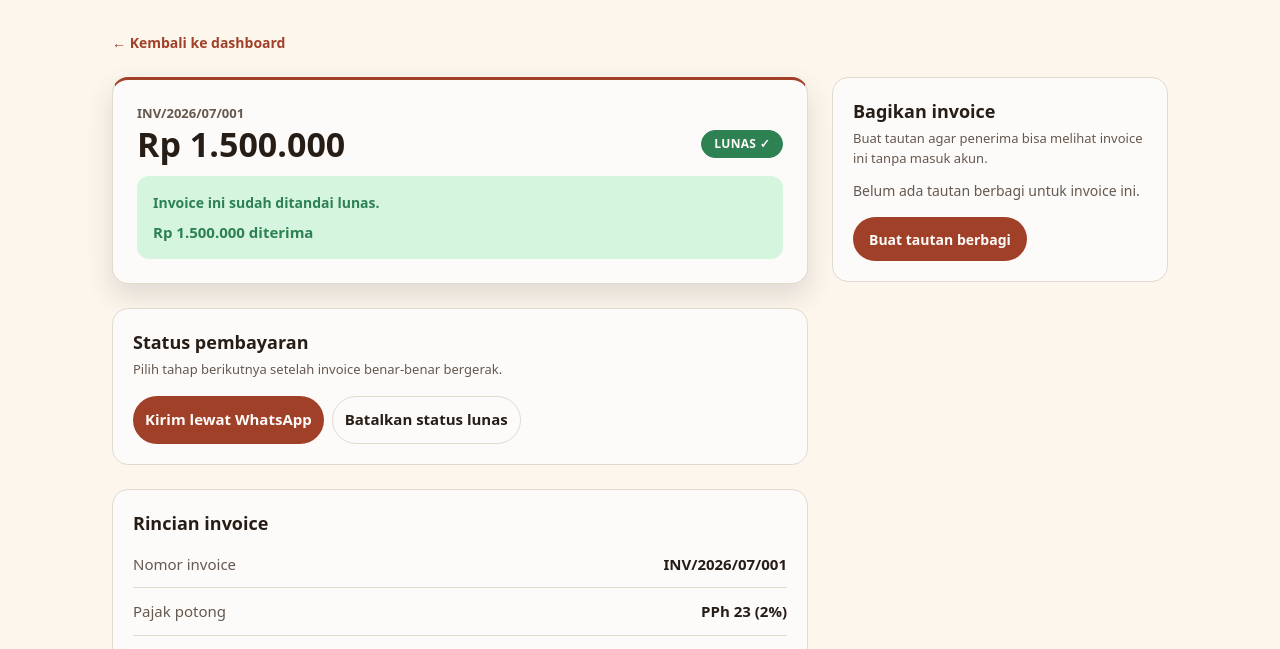
Scenario: InvoiceDetailClient › undoing a paid invoice (T-19) sends the PAID→SENT transition and shows the SENT actions afterward
The image size is (1280, 649).
What coordinates should you click on to do the following:
click the button "Batalkan status lunas"
I would click on:
 (426, 420)
Its box is [332,396,521,444].
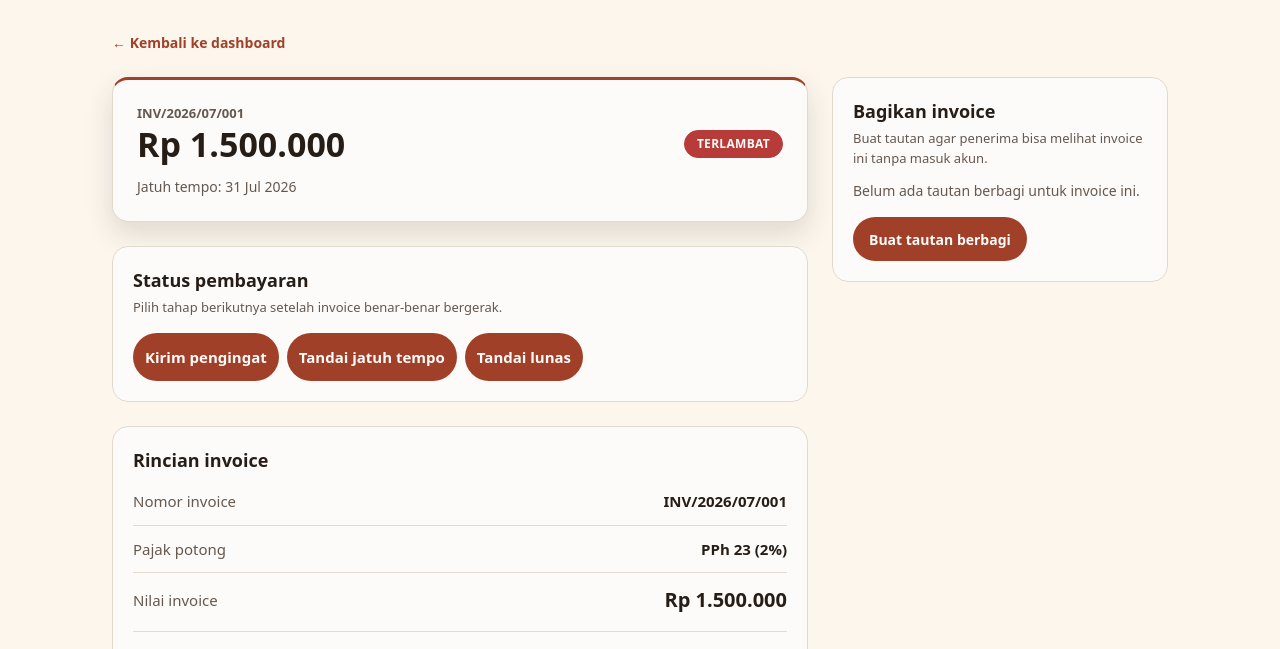
Expected: the button "Tandai lunas" is shown, [465,333,583,381]
Expected: the button "Tandai jatuh tempo" is shown, [287,333,457,381]
Expected: the button "Batalkan status lunas" is gone
